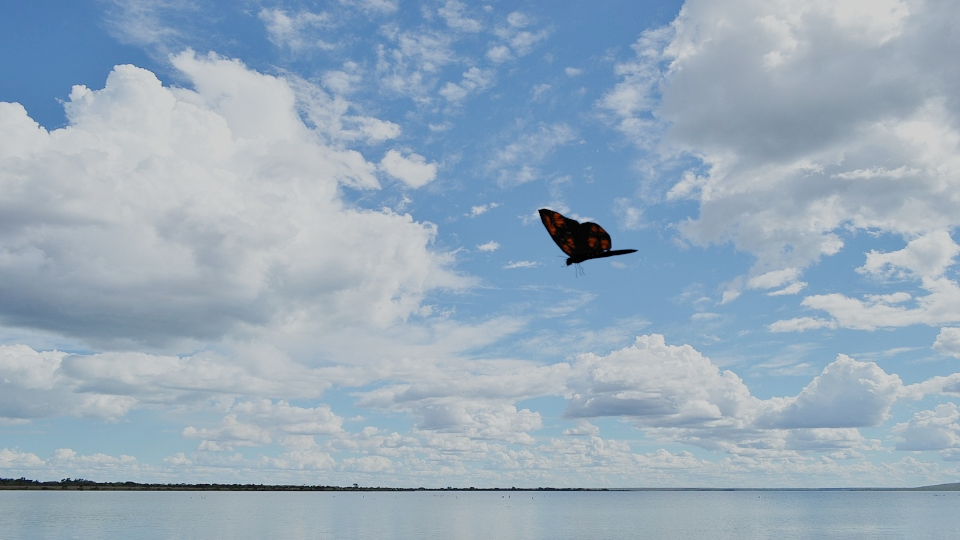insect: (540, 209, 638, 272)
